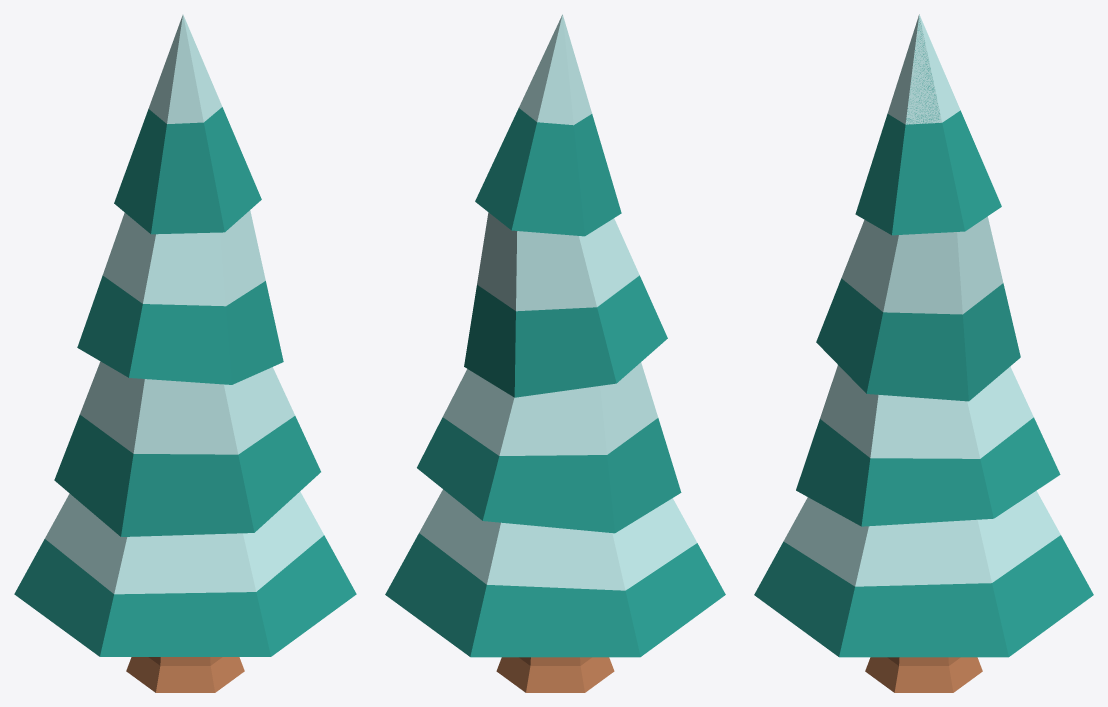
Rendered from treePineSnow.dae.
3 views of the same model, side by side, from view 1: azimuth 30°, elevation 25°; view 2: azimuth 150°, elevation 25°; view 3: azimuth 270°, elevation 25° (orthographic).
Parts seen in each view (by area): view 1: treePineSnow; view 2: treePineSnow; view 3: treePineSnow.
Part boxes in pixels (<box>): treePineSnow: <box>14,14,356,692</box>; treePineSnow: <box>385,14,725,692</box>; treePineSnow: <box>754,14,1093,692</box>.
Size of the model in its own units: 0.651 by 1.6 by 0.7517.
